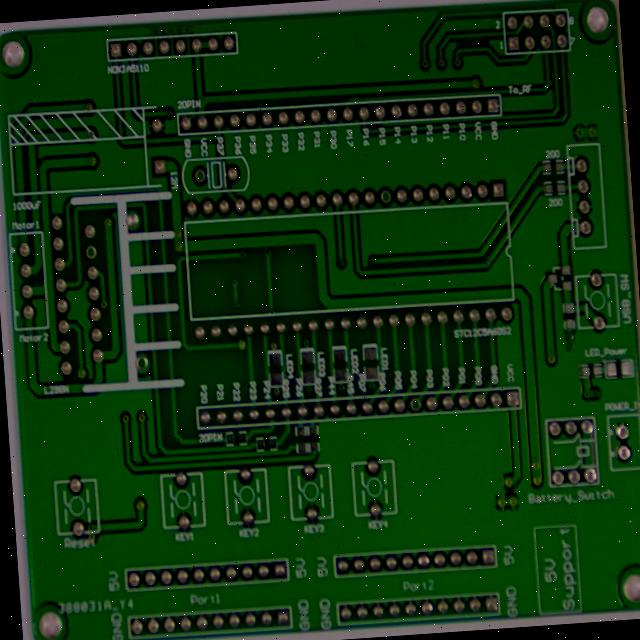missing_hole: (341, 102, 361, 130), (136, 76, 156, 101), (16, 168, 35, 193), (73, 301, 91, 324), (378, 351, 396, 374)
